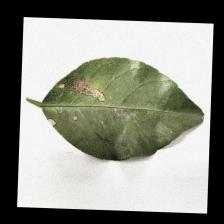canker: (51, 76, 113, 108)
